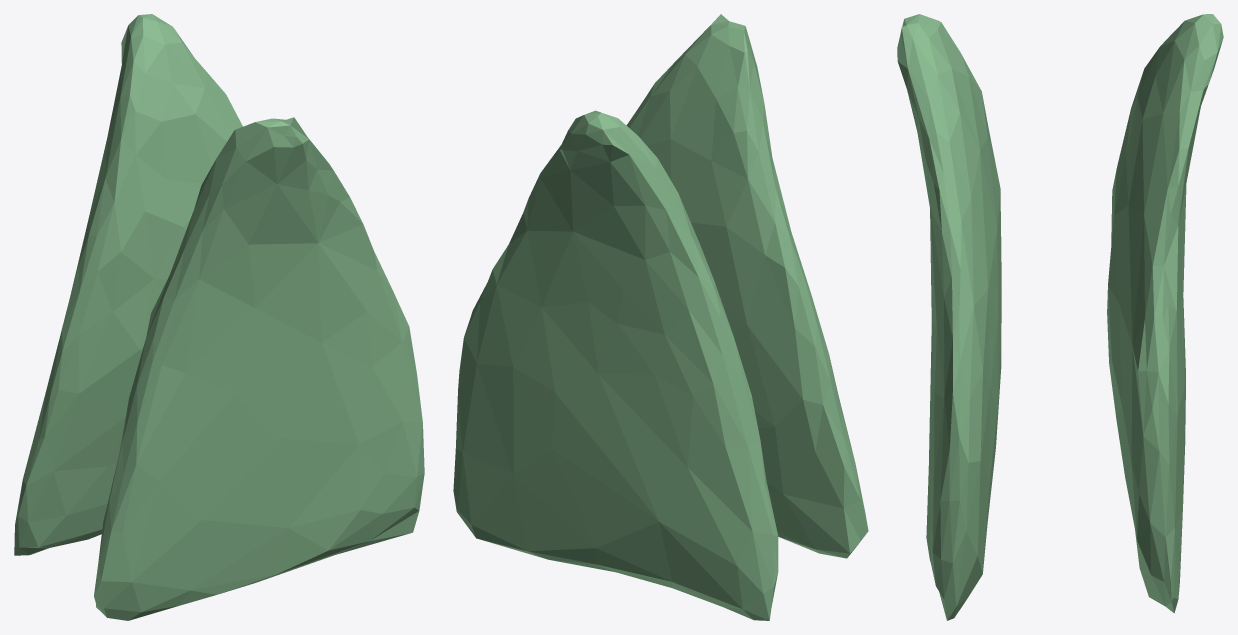
3 views of the same model, side by side, from view 1: azimuth 30°, elevation 25°; view 2: azimuth 150°, elevation 25°; view 3: azimuth 270°, elevation 25° (orthographic). The views are drawn at different scales.
Visible parts, largest first — view 1: 556.obj; view 2: 556.obj; view 3: 556.obj.
Part boxes in pixels (<box>): 556.obj: <box>14,14,424,620</box>; 556.obj: <box>453,14,868,620</box>; 556.obj: <box>897,14,1223,620</box>.
Bounding box in the file's own units: 748 × 1084 × 584.
